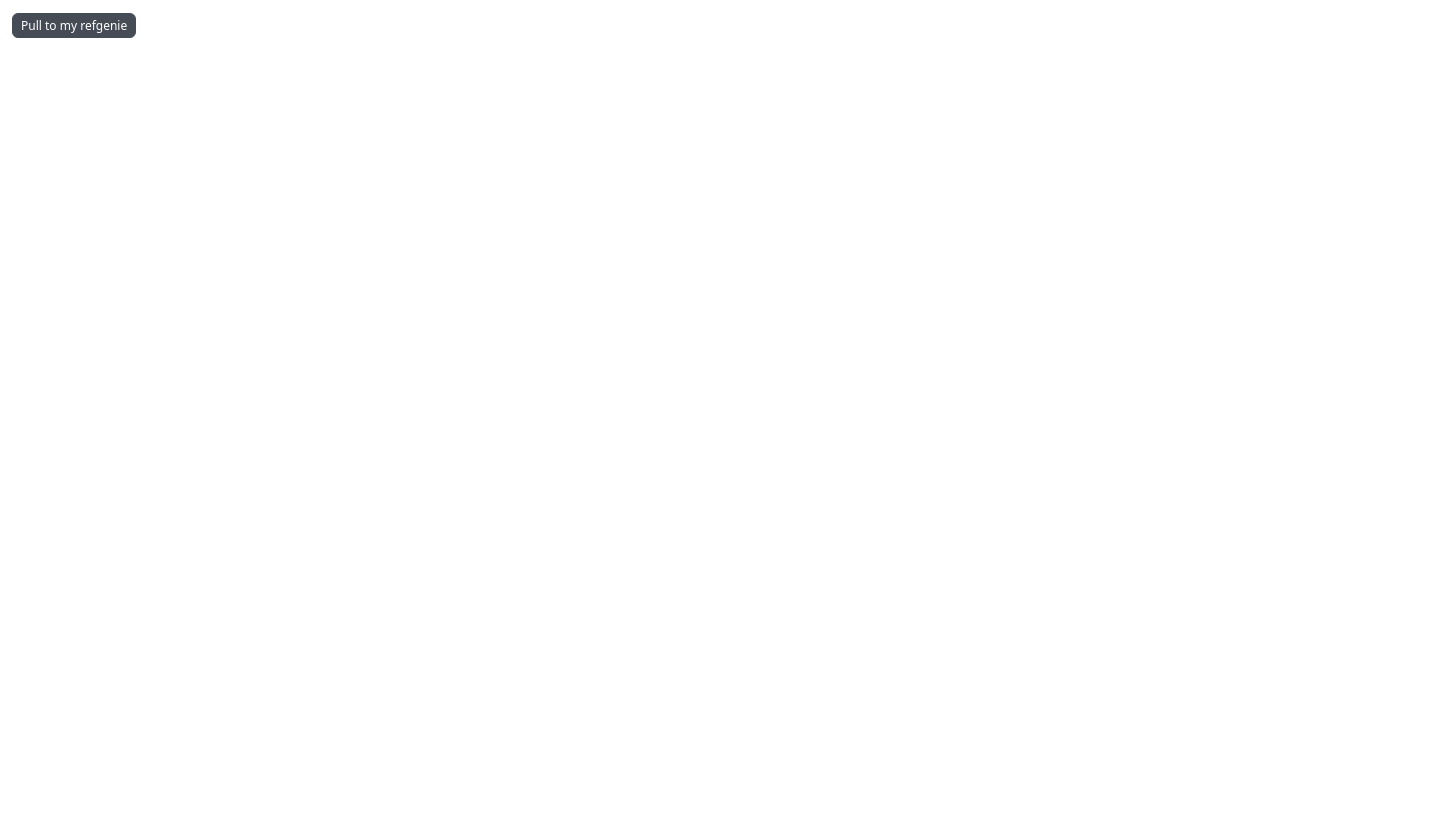
Test: BridgePullButton › falls back to the deep link when the local side is not subscribed
This screenshot has width=1452, height=822.
Expected: the link "open in local refgenie" is not shown
What coordinates should you click on to do the following:
click the button "Pull to my refgenie"
I would click on:
 (74, 26)
Its box is [12,13,136,38].
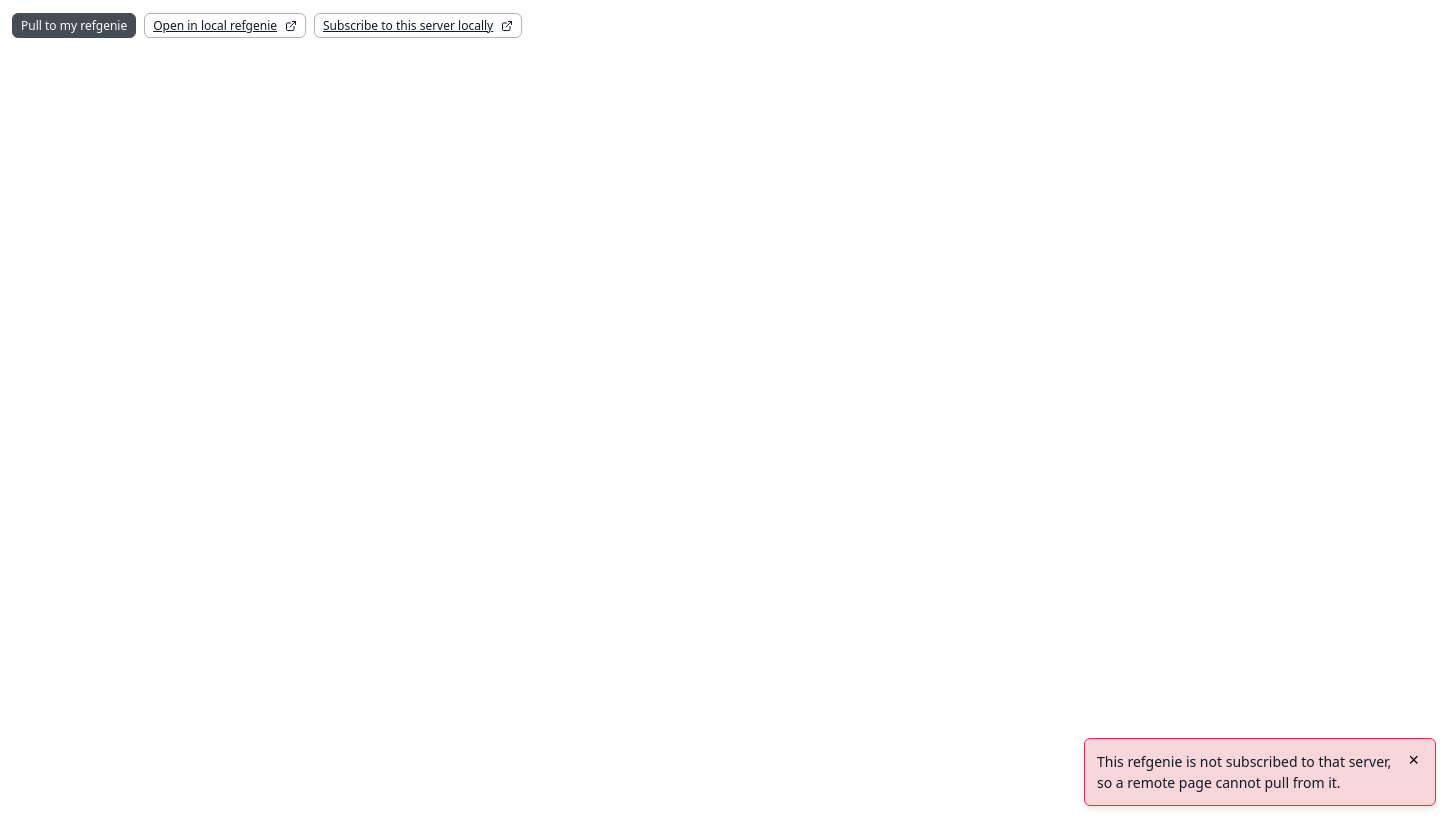
Result: the text "This refgenie is not subscribed to that server, so a remote page cannot pull from it." is shown at [1097,752,1391,792]
